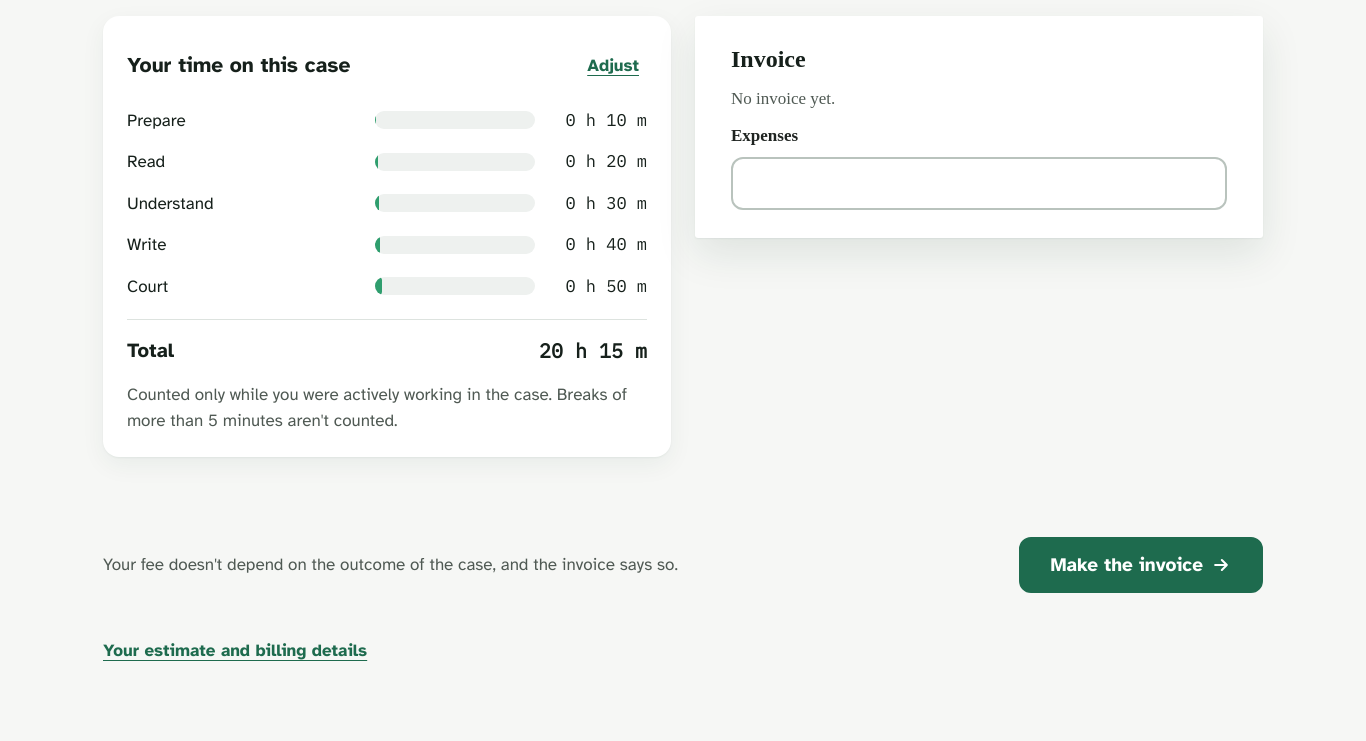
the estimate, billing and bank forms are behind one link at the foot of the screen
(page scrolled)
Click the heading "Your estimate and billing details". click: (235, 651)
box: [103,640,367,661]
(page scrolled)
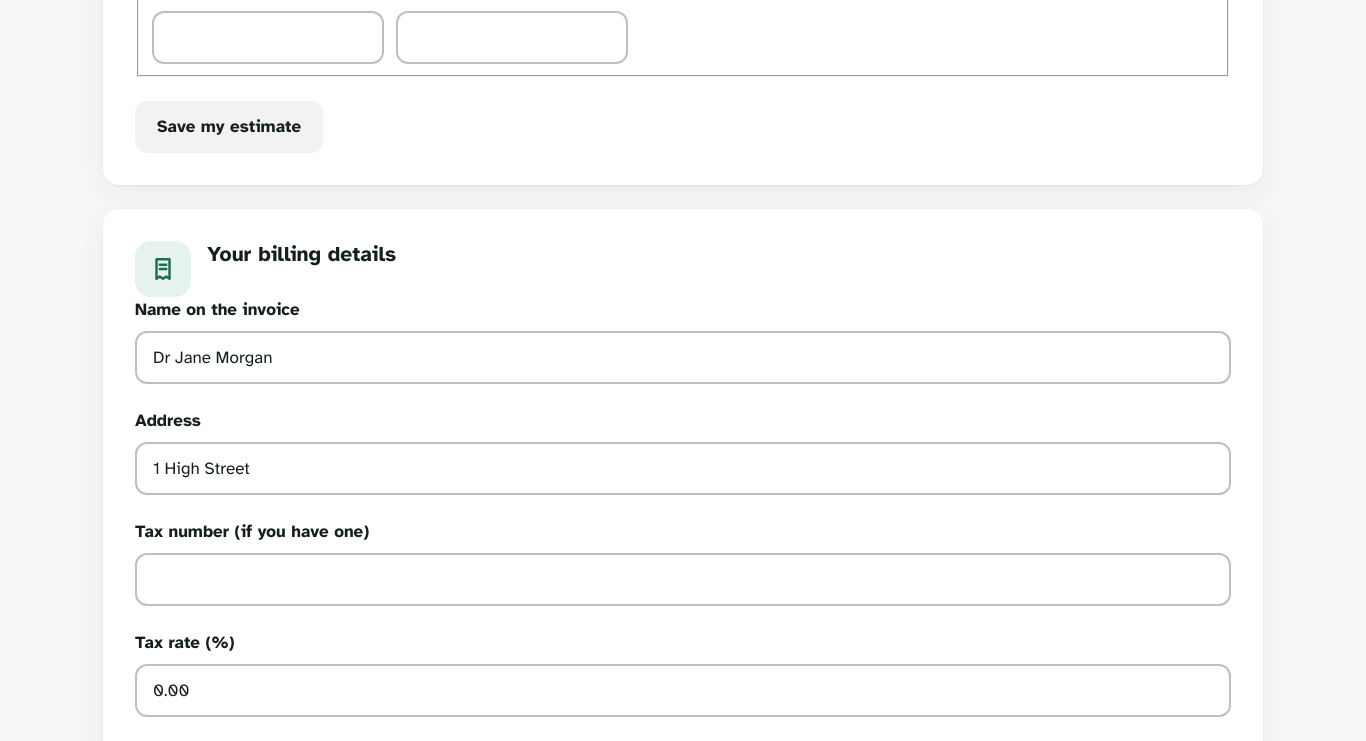
Check: the field labelled "Name on the invoice" is shown, box [135,331,1231,384]
